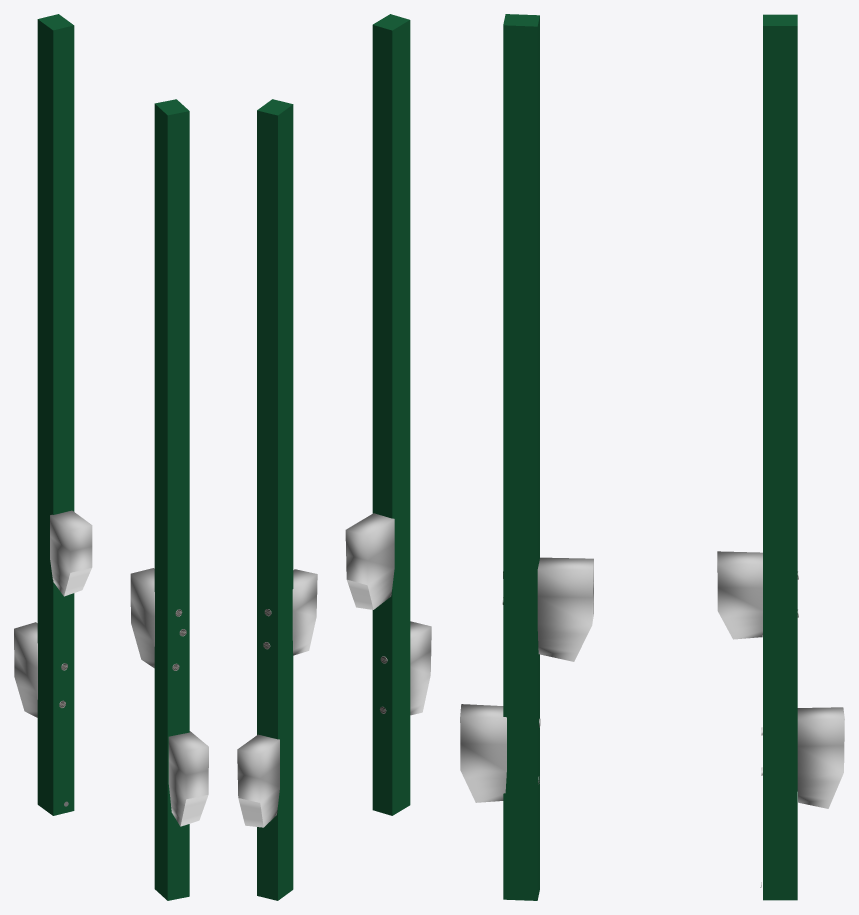
File: WILD CHILD OPGAVE-kopi.fbx
The picture shows the model from 3 angles, left to right: view 1: azimuth 30°, elevation 25°; view 2: azimuth 150°, elevation 25°; view 3: azimuth 270°, elevation 25°; orthographic projection. The views are drawn at different scales.
Parts seen in each view (by area): view 1: Cube, Cube.001, Cube.004, Cube.020, Cube.003, Cube.002; view 2: Cube.001, Cube, Cube.003, Cube.002, Cube.020, Cube.004; view 3: Cube.001, Cube, Cube.003, Cube.002, Cube.004, Cube.020.
Part boxes in pixels (x1,y1,x2,y2): Cube: (37,14,74,815); Cube.001: (154,99,189,900); Cube.004: (168,731,208,826); Cube.020: (50,510,92,596); Cube.003: (130,568,154,668); Cube.002: (14,622,37,717); Cube.001: (372,14,410,815); Cube: (257,99,293,900); Cube.003: (345,513,394,609); Cube.002: (237,734,279,827); Cube.020: (292,569,317,655); Cube.004: (410,621,431,715); Cube.001: (503,14,539,900); Cube: (763,14,797,900); Cube.003: (537,557,593,661); Cube.002: (797,707,844,808); Cube.004: (460,704,506,802); Cube.020: (717,551,762,639).
Bounding box in the file's own units: 33.59 × 908 × 362.
